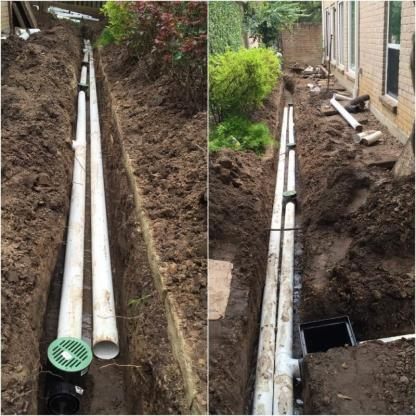PVC: (253, 107, 287, 414), (88, 39, 119, 359), (57, 40, 88, 344), (276, 108, 293, 415), (332, 2, 359, 100), (330, 99, 363, 131), (47, 6, 100, 22), (353, 133, 383, 145), (16, 28, 40, 41)
